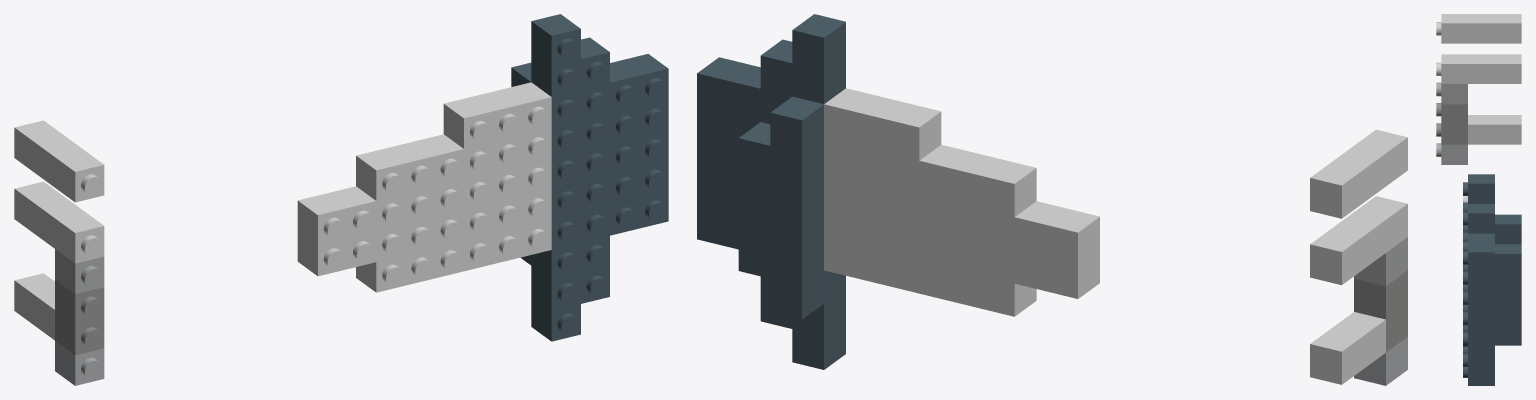
The model's file is full.glb.
3 renders of one model, left to right at view 1: azimuth 30°, elevation 25°; view 2: azimuth 150°, elevation 25°; view 3: azimuth 270°, elevation 25°, orthographic. The views are drawn at different scales.
Parts seen in each view (by area): view 1: world; view 2: world; view 3: world.
Boxes of the visible parts, x1=… form: world: x1=14, y1=14, x2=668, y2=385; world: x1=697, y1=14, x2=1407, y2=385; world: x1=1436, y1=14, x2=1521, y2=385.
Size of the model in its own units: 168 by 80 by 30.6.
